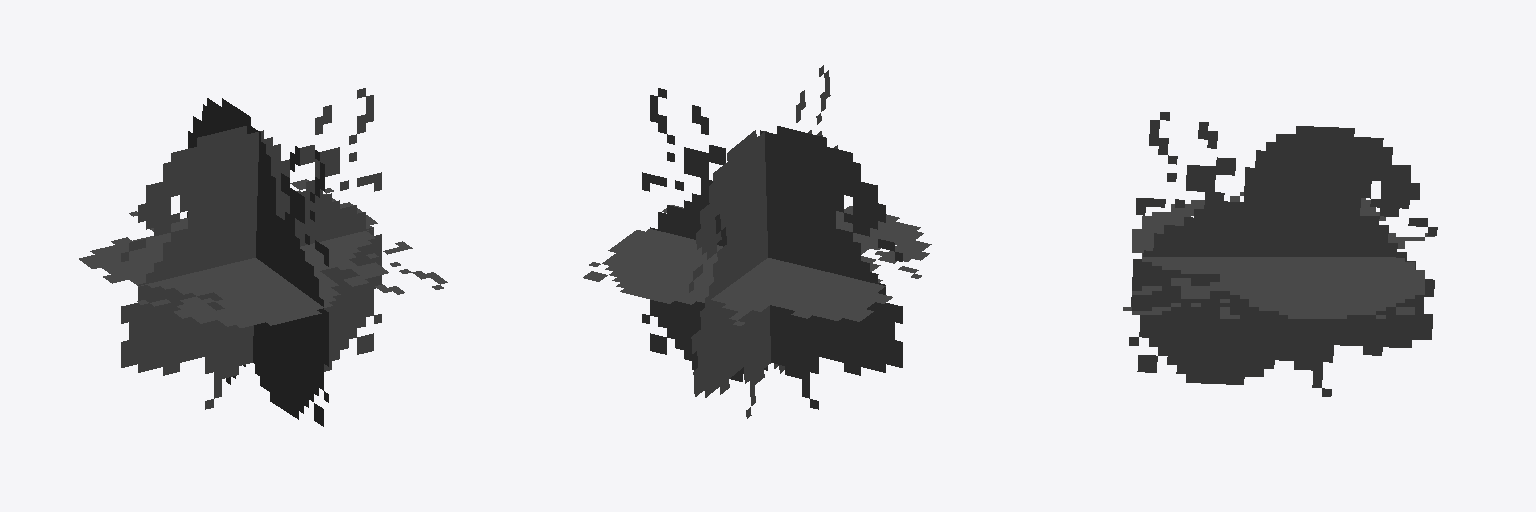
3 views of the same model, side by side, from view 1: azimuth 30°, elevation 25°; view 2: azimuth 150°, elevation 25°; view 3: azimuth 270°, elevation 25° (orthographic).
Visible parts, largest first — view 1: Plane; view 2: Plane; view 3: Plane.
Part boxes in pixels (left/top/right/bottom): Plane: left=79, top=88, right=447, bottom=426; Plane: left=583, top=65, right=931, bottom=418; Plane: left=1123, top=112, right=1437, bottom=396.
Bounding box in the file's own units: 2 × 2.09 × 2.09.
1 materials, 1 textured.